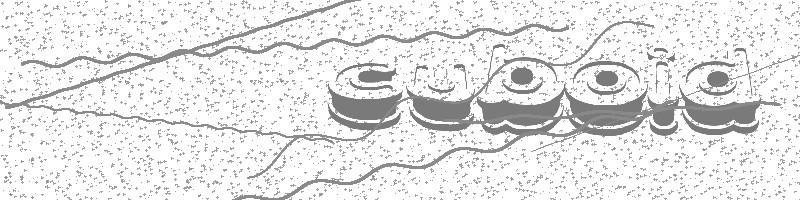b: (477, 44, 565, 136)
c: (326, 61, 403, 131)
d: (679, 46, 760, 136)
i: (646, 46, 679, 137)
o: (565, 60, 648, 137)
u: (405, 62, 475, 133)
